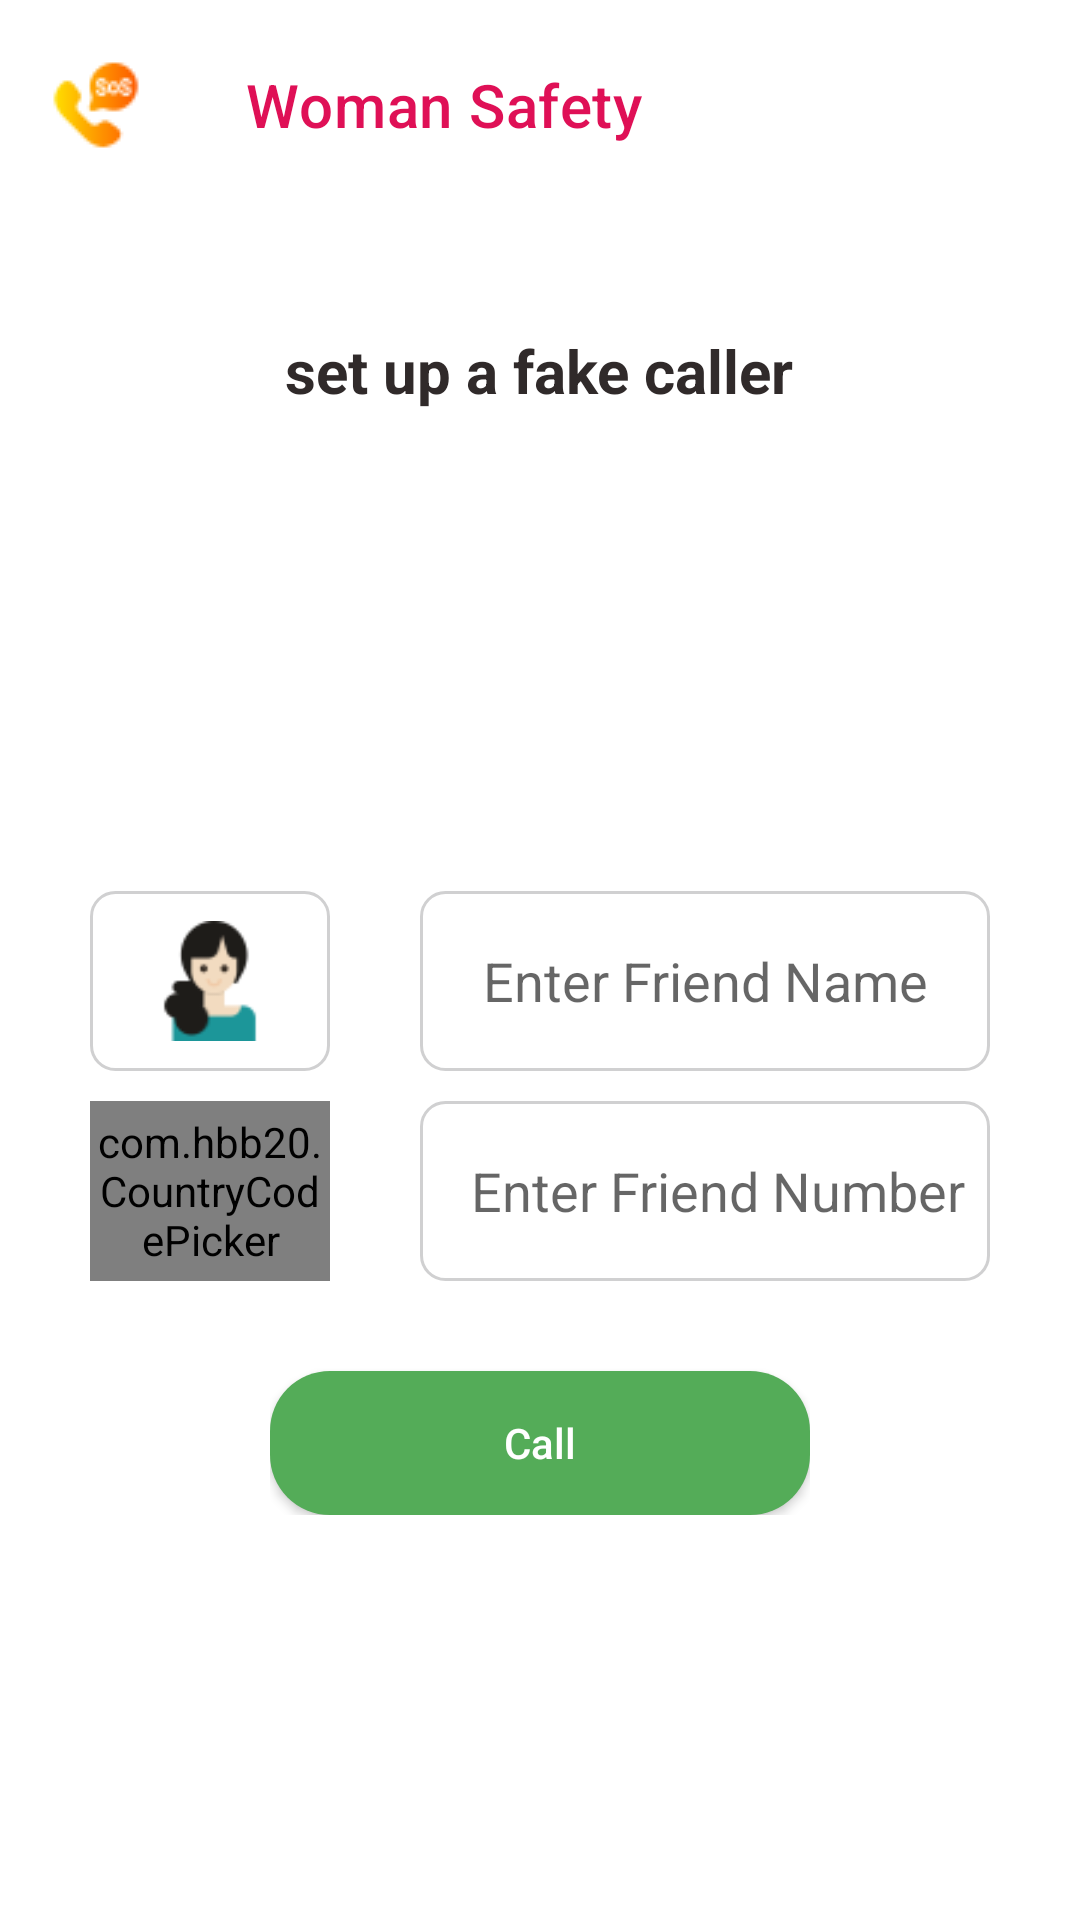

Icon bounding boxes for this 1080x1920 phone screenshot, format Rect(x1, y1, x2, y2):
woman: Rect(163, 921, 257, 1041)
